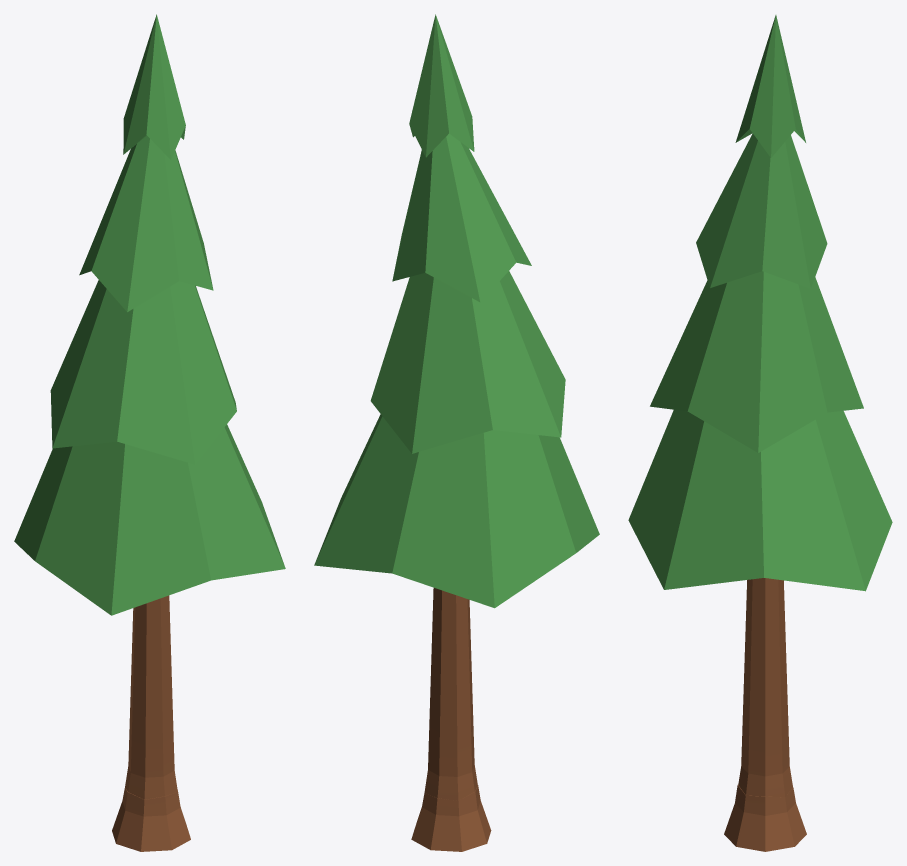
File: fir_02_split_grp.fbx
3 renders of one model, left to right at view 1: azimuth 30°, elevation 25°; view 2: azimuth 150°, elevation 25°; view 3: azimuth 270°, elevation 25°, orthographic.
Parts seen in each view (by area): view 1: fir_02_split_1, fir_02_split_5, fir_02_split_4, fir_02_split_3, fir_02_split_2; view 2: fir_02_split_1, fir_02_split_5, fir_02_split_4, fir_02_split_3, fir_02_split_2; view 3: fir_02_split_1, fir_02_split_5, fir_02_split_4, fir_02_split_3, fir_02_split_2.
Part boxes in pixels (<box>): fir_02_split_1: <box>14,14,285,615</box>; fir_02_split_5: <box>112,788,190,851</box>; fir_02_split_4: <box>125,721,177,799</box>; fir_02_split_3: <box>129,658,173,732</box>; fir_02_split_2: <box>131,595,171,667</box>; fir_02_split_1: <box>314,14,599,608</box>; fir_02_split_5: <box>411,785,491,851</box>; fir_02_split_4: <box>424,720,477,800</box>; fir_02_split_3: <box>429,656,473,731</box>; fir_02_split_2: <box>431,593,471,666</box>; fir_02_split_1: <box>628,15,892,596</box>; fir_02_split_5: <box>724,785,806,851</box>; fir_02_split_4: <box>738,721,792,797</box>; fir_02_split_3: <box>742,657,788,730</box>; fir_02_split_2: <box>744,590,786,665</box>.
Bounding box in the file's own units: 195 × 661 × 192.
